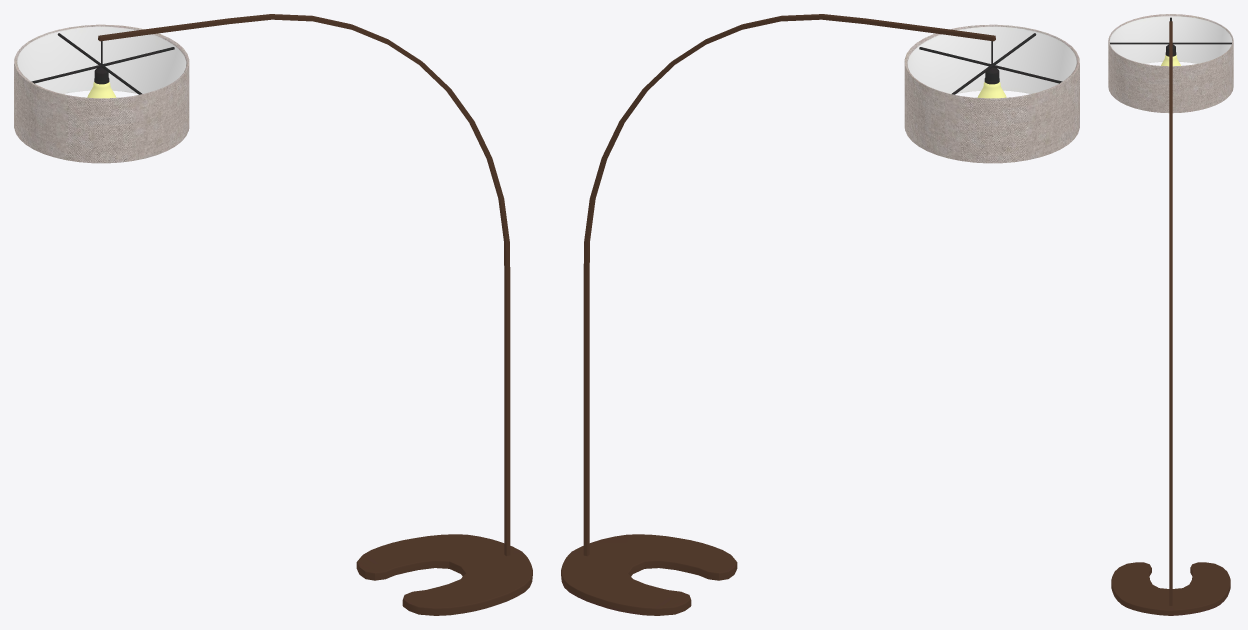
File: lamp.glb
3 views of the same model, side by side, from view 1: azimuth 30°, elevation 25°; view 2: azimuth 150°, elevation 25°; view 3: azimuth 270°, elevation 25° (orthographic). The views are drawn at different scales.
Visible parts, largest first — view 1: normalized; view 2: normalized; view 3: normalized.
Part boxes in pixels (x1,y1,x2,y2): normalized: [14, 14, 532, 615]; normalized: [561, 14, 1079, 615]; normalized: [1108, 14, 1233, 615].
Size of the model in its own units: 1.51 by 1.82 by 0.4625.
1 material, 1 textured.
